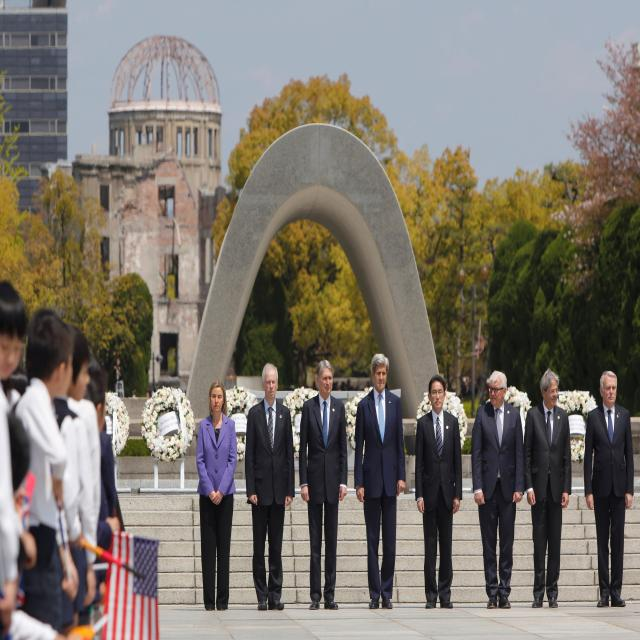body: (14, 306, 80, 636), (15, 316, 80, 632), (353, 352, 407, 609), (470, 368, 526, 610), (244, 361, 296, 611), (298, 358, 349, 611), (582, 369, 635, 608), (521, 368, 573, 609), (414, 373, 464, 609), (62, 327, 99, 626), (0, 278, 30, 640), (195, 378, 238, 611), (84, 360, 120, 553)
